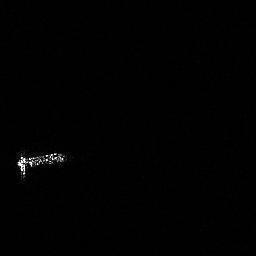ship: (8, 145, 76, 180)
